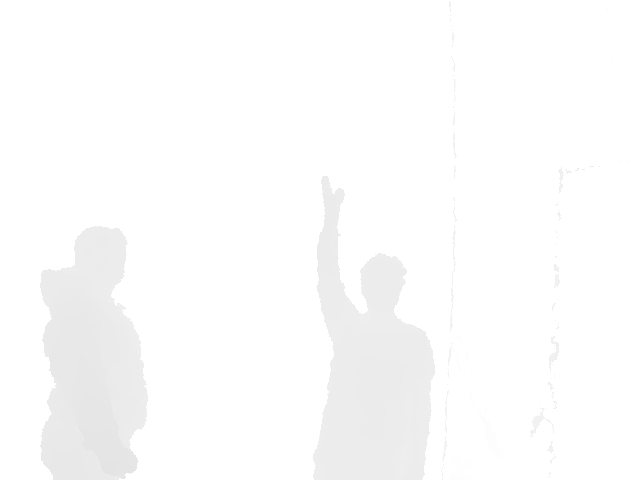hand: (320, 175, 345, 215)
head: (73, 225, 127, 297), (359, 254, 406, 319)
person: (310, 175, 437, 480), (38, 225, 150, 480)
